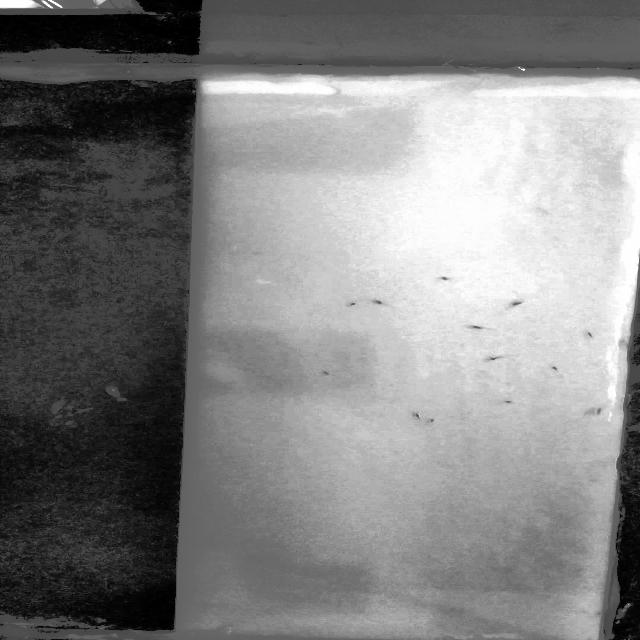shrimp: (475, 351, 517, 363), (435, 274, 470, 286), (501, 298, 534, 309), (320, 368, 338, 383), (501, 399, 528, 409), (546, 365, 567, 376), (584, 328, 600, 342), (346, 298, 368, 308), (466, 324, 497, 331), (375, 300, 397, 309), (423, 416, 441, 423), (409, 414, 426, 421), (597, 409, 610, 417)
